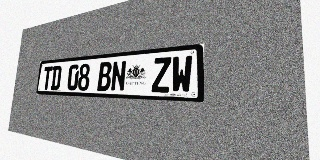0: (67, 64, 79, 90)
8: (77, 63, 91, 91)
B: (97, 61, 112, 91)
D: (50, 66, 62, 90)
N: (110, 60, 127, 92)
T: (42, 66, 53, 90)
W: (171, 55, 193, 93)
Z: (151, 57, 171, 93)
